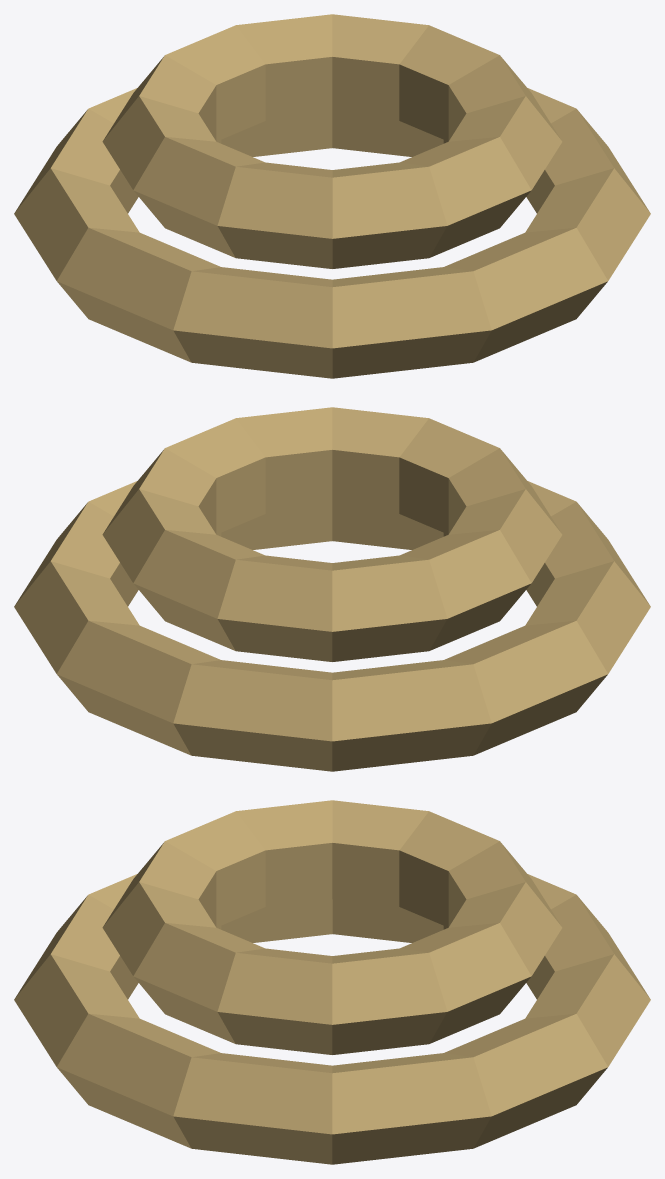
The model's file is rope_coil.glb.
3 renders of one model, top to bottom at view 1: azimuth 30°, elevation 25°; view 2: azimuth 150°, elevation 25°; view 3: azimuth 270°, elevation 25°, orthographic.
Parts seen in each view (by area): view 1: rope_coil; view 2: rope_coil; view 3: rope_coil.
Boxes of the visible parts, x1,y1,x2,y2 form: rope_coil: (14, 14, 650, 378); rope_coil: (14, 407, 650, 771); rope_coil: (14, 800, 650, 1164).
Size of the model in its own units: 0.72 by 0.2041 by 0.72.
